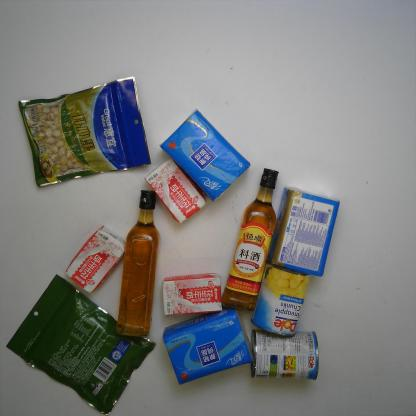Canned Food: (251, 262, 312, 336), (251, 329, 320, 381)
Dried Fruit: (6, 274, 156, 414), (18, 74, 152, 188)
Milk: (65, 226, 130, 294), (144, 157, 206, 223), (163, 271, 223, 317)
Seasoner: (222, 167, 278, 315), (117, 188, 160, 337)
Tissue: (160, 110, 251, 202), (164, 305, 257, 386), (269, 186, 340, 277)
